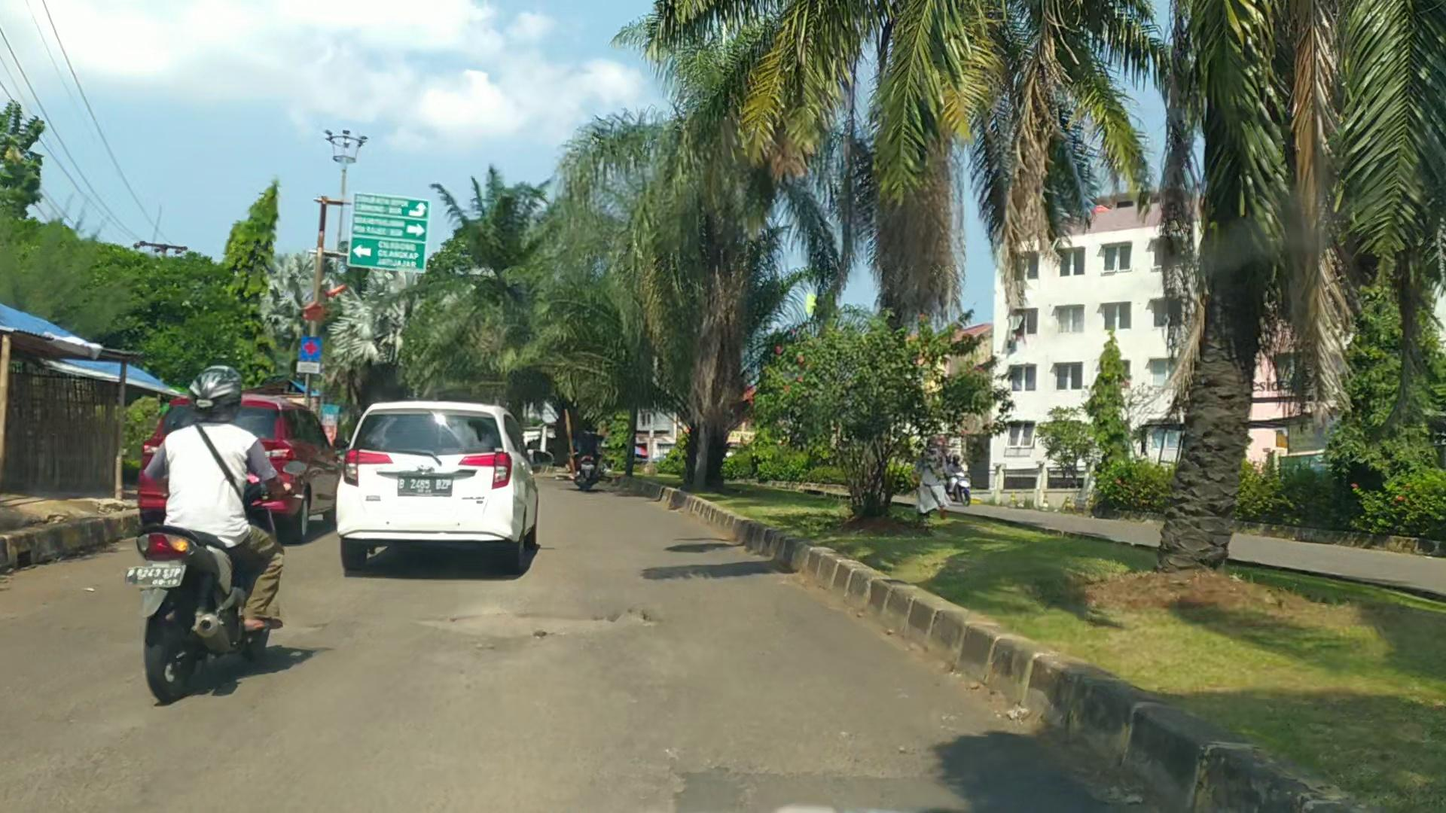pothole: (418, 605, 657, 642)
